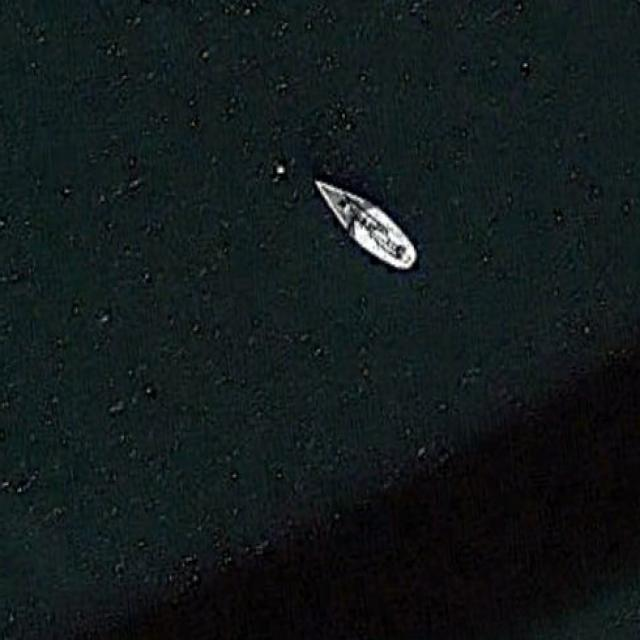ship: (314, 176, 418, 270)
